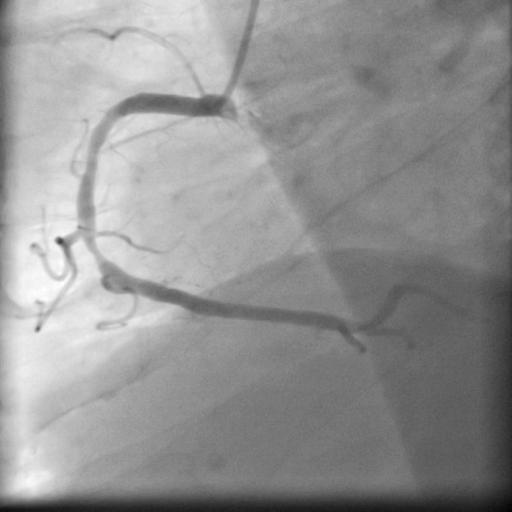Stenosis: (83, 228, 112, 274)
